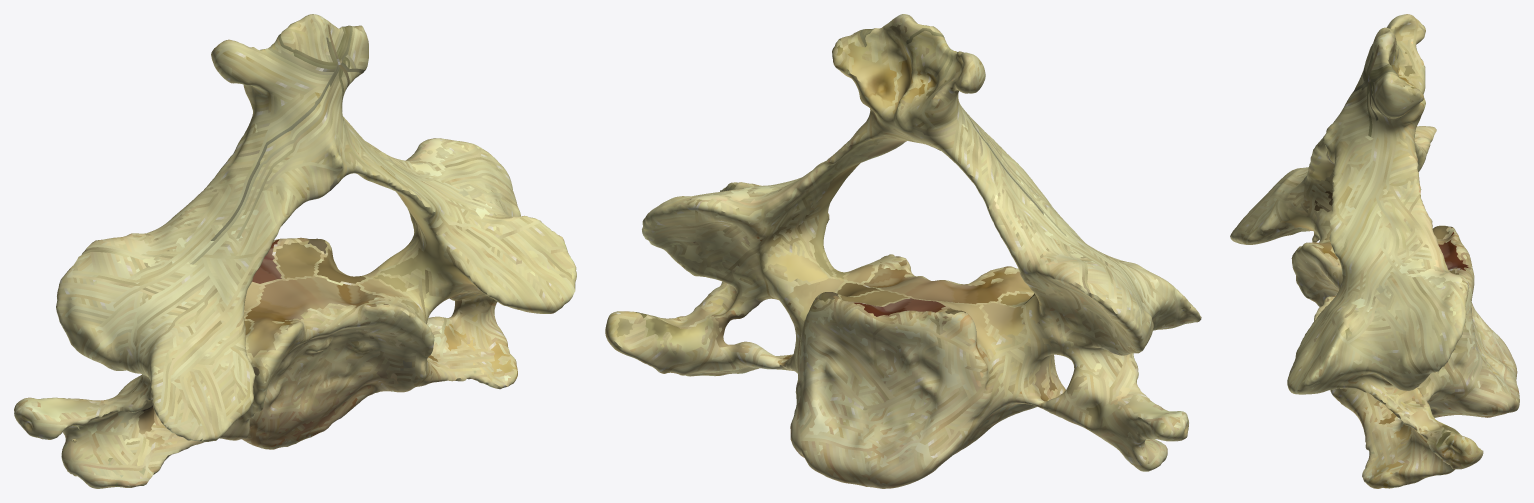
Rendered from fourth_cervical_vertebra.glb.
The picture shows the model from 3 angles, left to right: view 1: azimuth 30°, elevation 25°; view 2: azimuth 150°, elevation 25°; view 3: azimuth 270°, elevation 25°; orthographic projection. The views are drawn at different scales.
Parts seen in each view (by area): view 1: Object_3, Object_2, Object_4; view 2: Object_2, Object_3, Object_4; view 3: Object_3, Object_4, Object_2.
Boxes of the visible parts, <box> form: Object_3: <box>84,14,548,441</box>; Object_2: <box>14,138,517,488</box>; Object_4: <box>56,147,576,441</box>; Object_2: <box>605,24,1190,488</box>; Object_3: <box>659,14,1195,407</box>; Object_4: <box>642,187,1201,403</box>; Object_3: <box>1260,14,1474,436</box>; Object_4: <box>1230,167,1473,431</box>; Object_2: <box>1328,41,1519,488</box>.
Size of the model in its own units: 59.36 by 45.22 by 30.29.
1 material, 1 textured.
